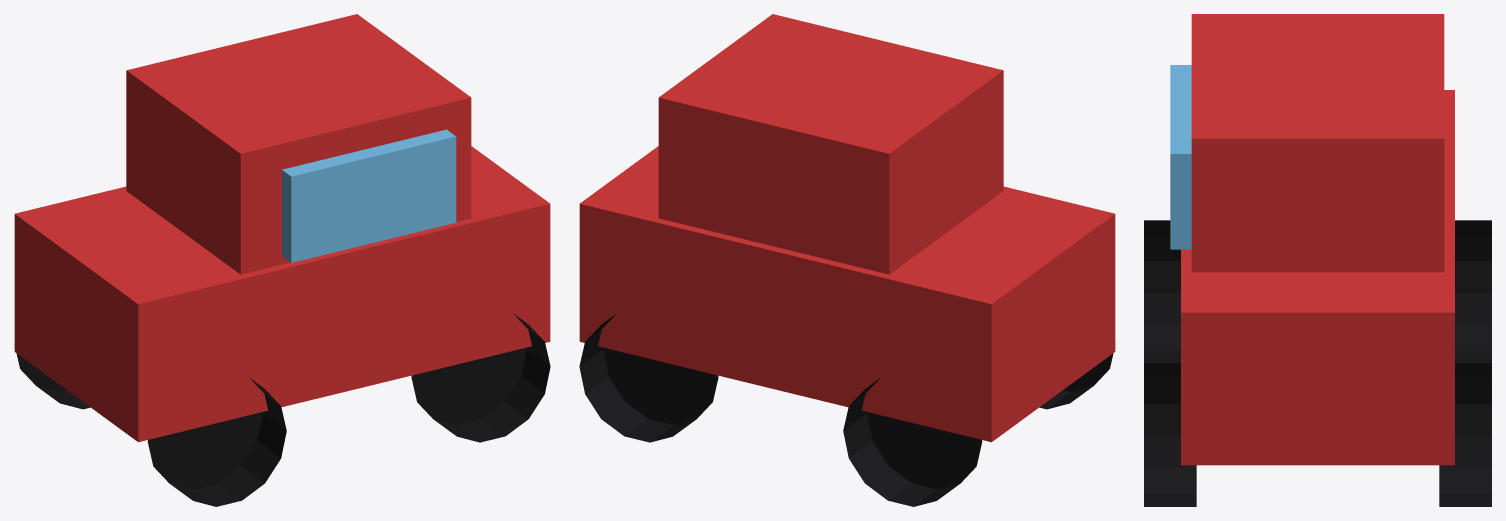
The model's file is Item_Cars.obj.
3 renders of one model, left to right at view 1: azimuth 30°, elevation 25°; view 2: azimuth 150°, elevation 25°; view 3: azimuth 270°, elevation 25°, orthographic. The views are drawn at different scales.
Visible parts, largest first — view 1: Item_Cars; view 2: Item_Cars; view 3: Item_Cars.
Part boxes in pixels (x1,y1,x2,y2): Item_Cars: (14, 14, 550, 506); Item_Cars: (579, 14, 1115, 506); Item_Cars: (1144, 14, 1491, 506).
Bounding box in the file's own units: 0.5 × 0.3782 × 0.33.
